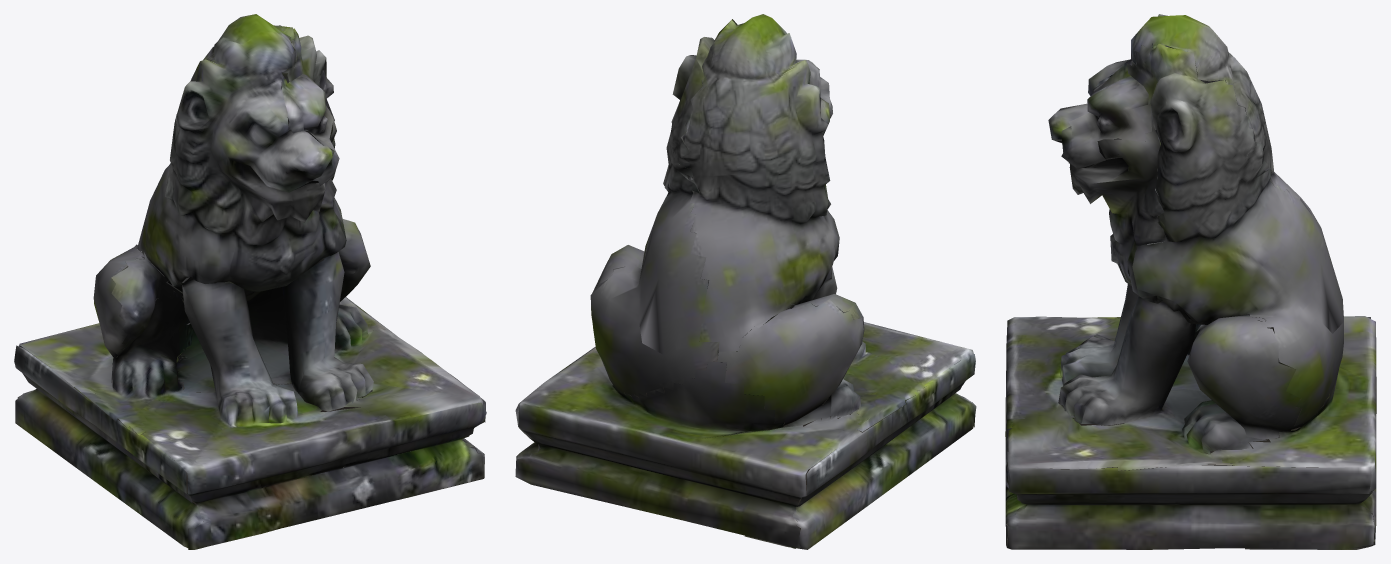
File: stone-lion.glb
The picture shows the model from 3 angles, left to right: view 1: azimuth 30°, elevation 25°; view 2: azimuth 150°, elevation 25°; view 3: azimuth 270°, elevation 25°; orthographic projection. The views are drawn at different scales.
Parts seen in each view (by area): view 1: model; view 2: model; view 3: model.
Boxes of the visible parts, bbox=[...] form: model: bbox=[14, 14, 486, 549]; model: bbox=[515, 14, 976, 549]; model: bbox=[1005, 14, 1376, 549].
Size of the model in its own units: 0.7119 by 1 by 0.7312.
Materials: 1 (1 with a texture image).
